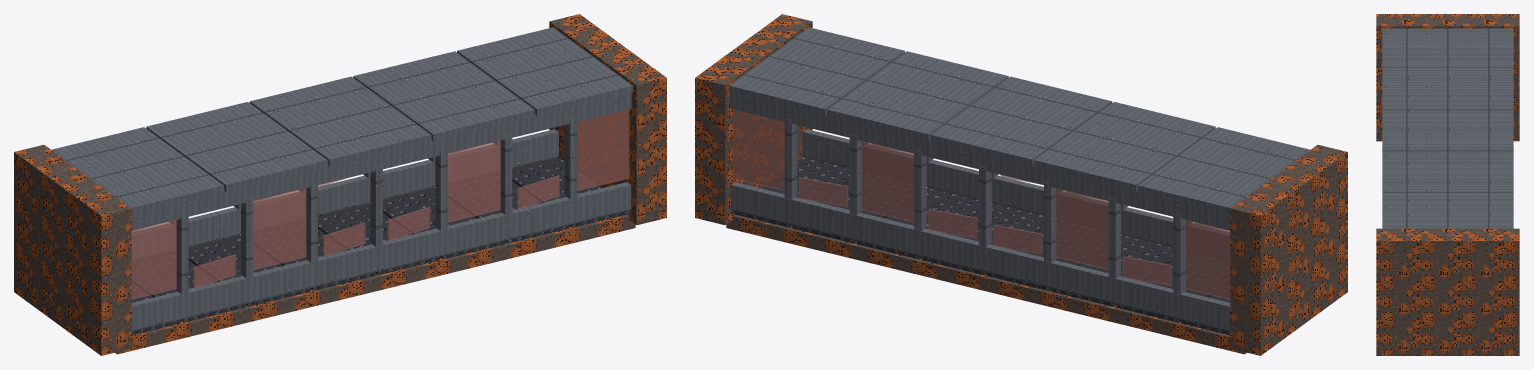
The model's file is bridge.glb.
3 views of the same model, side by side, from view 1: azimuth 30°, elevation 25°; view 2: azimuth 150°, elevation 25°; view 3: azimuth 270°, elevation 25° (orthographic). The views are drawn at different scales.
Parts seen in each view (by area): view 1: Abut_L, Sill_L, Abut_R, Sill_R, Roof_2, Roof_1, Roof_3, Roof_4, Roof_0, Header_L, Girder_0, Window_L_2 (+21 smaller); view 2: Abut_L, Sill_R, Abut_R, Sill_L, Roof_2, Roof_1, Roof_3, Roof_4, Roof_0, Header_R, Girder_1, Window_R_2 (+21 smaller); view 3: Abut_R, Roof_2, Roof_1, Roof_3, Roof_0, Roof_4, Abut_L.
Part boxes in pixels (box(x1,y1,x2,y2)): Abut_L: box(14, 145, 131, 355); Sill_L: box(131, 182, 631, 331); Abut_R: box(549, 14, 666, 224); Sill_R: box(132, 129, 558, 260); Roof_2: box(249, 76, 431, 166); Roof_1: box(146, 102, 327, 191); Roof_3: box(353, 51, 534, 141); Roof_4: box(457, 27, 632, 116); Roof_0: box(51, 127, 223, 214); Header_L: box(131, 93, 631, 230); Girder_0: box(115, 214, 635, 354); Window_L_2: box(253, 188, 306, 269); Abut_L: box(1230, 145, 1347, 355); Sill_R: box(730, 182, 1230, 331); Abut_R: box(695, 14, 812, 224); Sill_L: box(803, 129, 1229, 260); Roof_2: box(930, 76, 1112, 166); Roof_1: box(1034, 102, 1215, 191); Roof_3: box(827, 51, 1008, 141); Roof_4: box(729, 27, 904, 116); Roof_0: box(1138, 127, 1310, 214); Header_R: box(730, 93, 1230, 230); Girder_1: box(726, 214, 1246, 354); Window_R_2: box(1055, 188, 1108, 269); Abut_R: box(1376, 228, 1519, 355); Roof_2: box(1382, 109, 1513, 151); Roof_1: box(1382, 68, 1513, 109); Roof_3: box(1382, 151, 1513, 192); Roof_0: box(1382, 28, 1513, 67); Roof_4: box(1382, 192, 1513, 228); Abut_L: box(1376, 14, 1519, 141).
Size of the model in its own units: 13.1 by 3.73 by 3.5.
5 materials, 3 textured.
